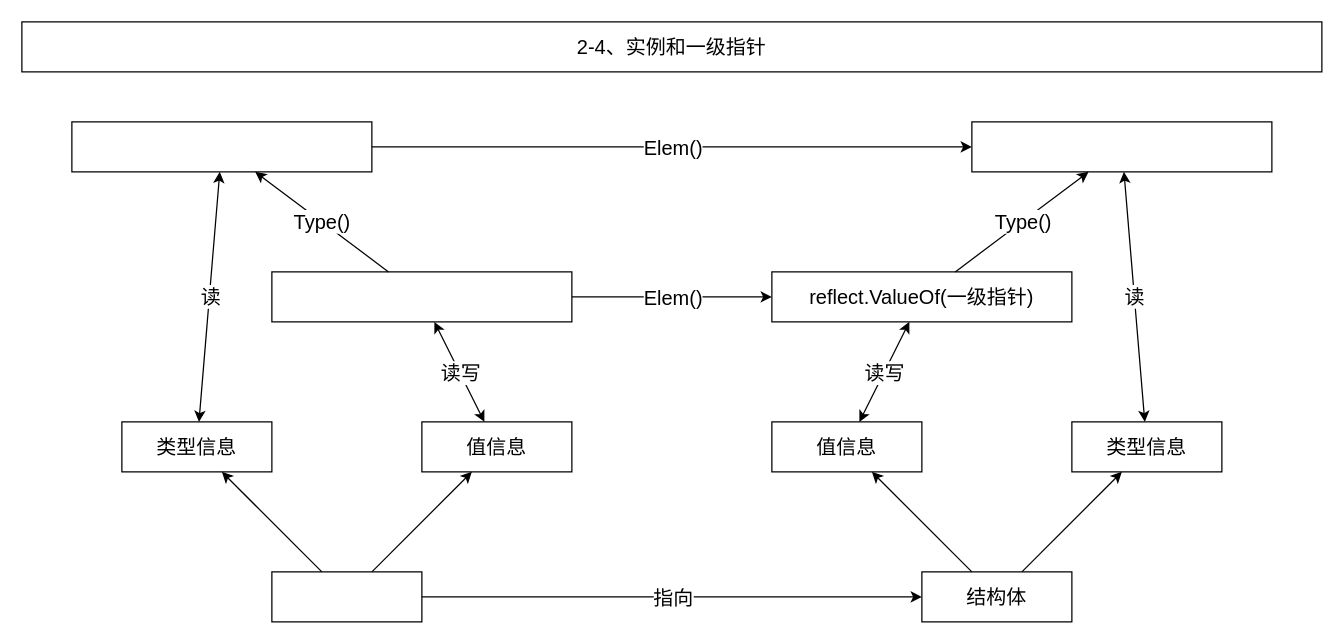
Some shapes in this 1344 by 644 pixel diagram are drawn without their labels. Each missing label, with the centre of its shape:
"reflect.TypeOf(一级指针)" goes at point (1121, 146).
"reflect.TypeOf(实例)" goes at point (221, 146).
"reflect.ValueOf(实例)" goes at point (421, 296).
"结构体指针" goes at point (346, 596).
